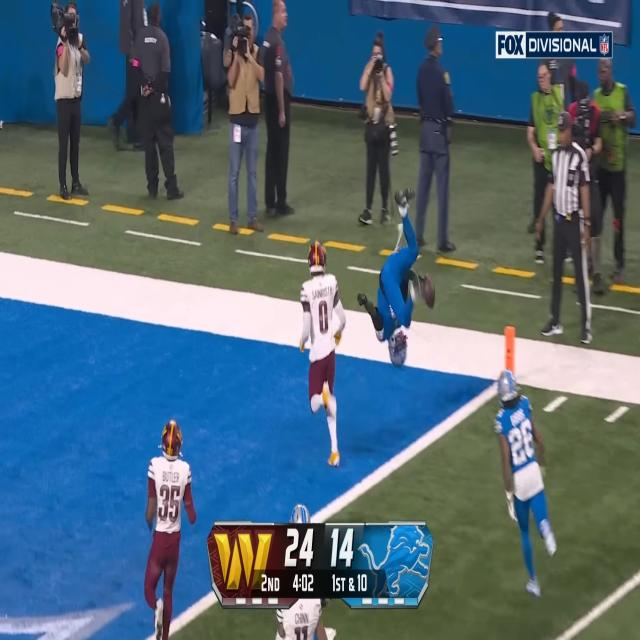Ball: (424, 272, 436, 311)
